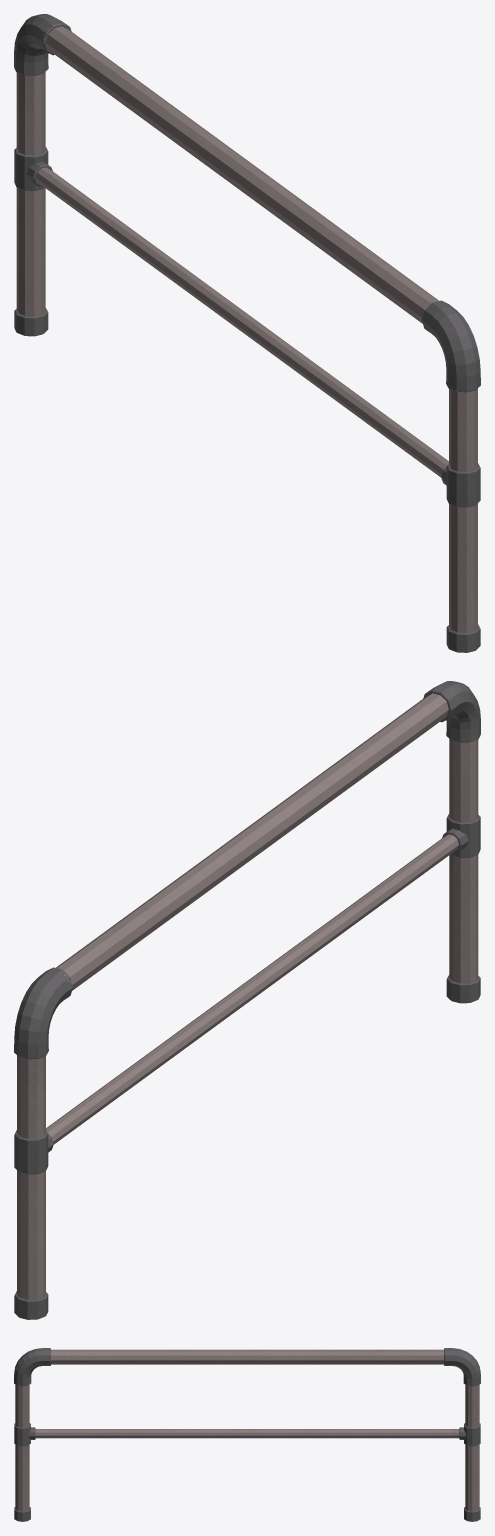
Rendered from Large_Grid_6831.obj.
3 renders of one model, top to bottom at view 1: azimuth 30°, elevation 25°; view 2: azimuth 150°, elevation 25°; view 3: azimuth 270°, elevation 25°, orthographic. The views are drawn at different scales.
Parts seen in each view (by area): view 1: Large_Grid_6831_part1, Large_Grid_6831_part2; view 2: Large_Grid_6831_part1, Large_Grid_6831_part2; view 3: Large_Grid_6831_part1, Large_Grid_6831_part2.
Boxes of the visible parts, <box> form: Large_Grid_6831_part1: <box>16,26,477,632</box>; Large_Grid_6831_part2: <box>14,14,480,652</box>; Large_Grid_6831_part1: <box>17,693,478,1299</box>; Large_Grid_6831_part2: <box>14,681,480,1319</box>; Large_Grid_6831_part1: <box>15,1349,479,1511</box>; Large_Grid_6831_part2: <box>14,1348,480,1521</box>.
Size of the model in its own units: 0.0967 by 0.9961 by 2.49.
Materials: 2 (2 with a texture image).
